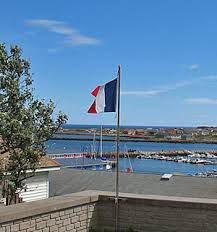French Flag: (87, 78, 117, 113)
